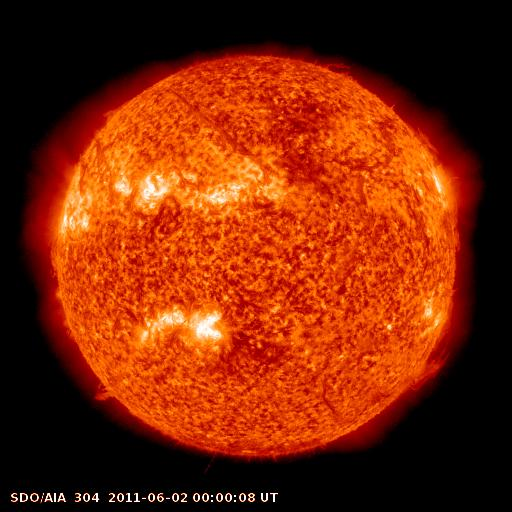prominence: (393, 296, 463, 400), (74, 373, 128, 413), (313, 55, 366, 87), (36, 236, 66, 281), (411, 123, 445, 162)
